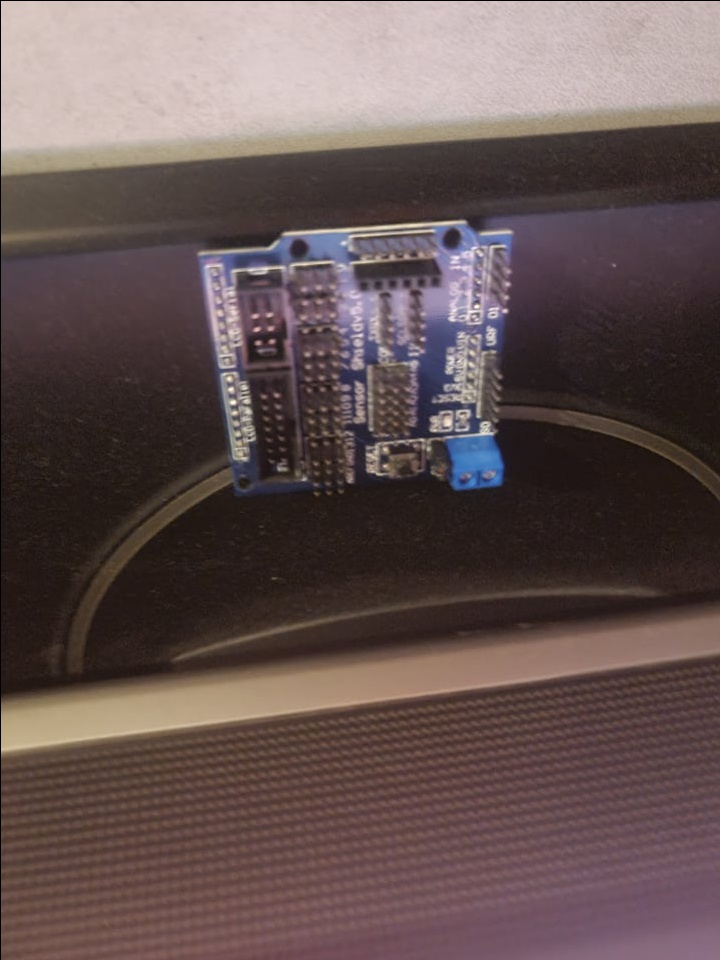5V EXPANSION: (194, 217, 511, 495)
